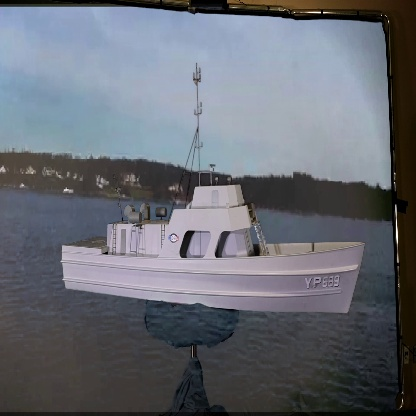YP689: (64, 62, 365, 318)
